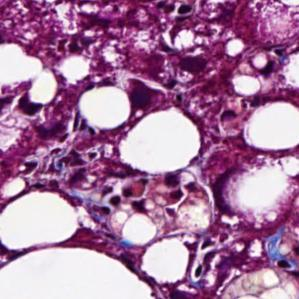inflammation: (161, 171, 201, 220), (101, 184, 152, 219), (126, 82, 157, 116), (153, 1, 198, 21), (14, 89, 46, 117), (182, 55, 213, 79)
